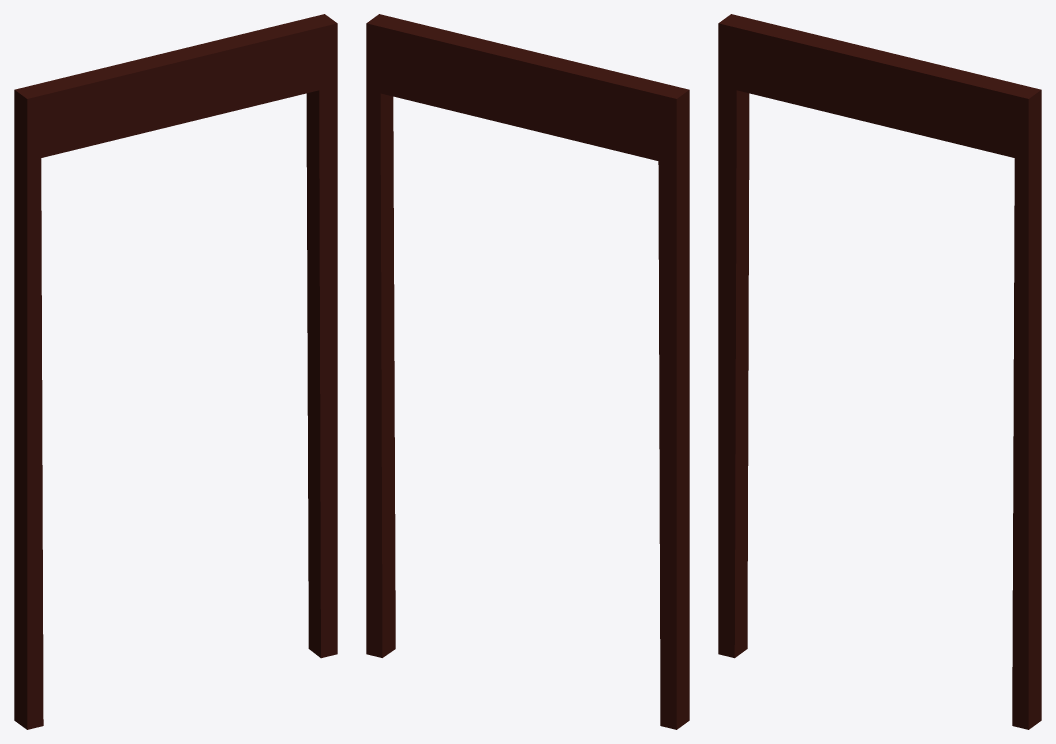
File: DoorPlane.fbx
3 views of the same model, side by side, from view 1: azimuth 30°, elevation 25°; view 2: azimuth 150°, elevation 25°; view 3: azimuth 330°, elevation 25° (orthographic).
Visible parts, largest first — view 1: Cube.003; view 2: Cube.003; view 3: Cube.003.
Part boxes in pixels (<box>): Cube.003: <box>14,14,337,729</box>; Cube.003: <box>366,14,689,729</box>; Cube.003: <box>718,14,1041,729</box>.
Size of the model in its own units: 0.1399 by 0.2718 by 0.0116.
